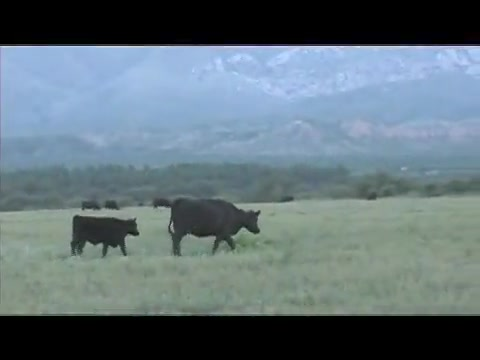cow: (168, 199, 263, 257), (70, 217, 142, 260), (82, 201, 104, 212), (103, 200, 122, 211)
